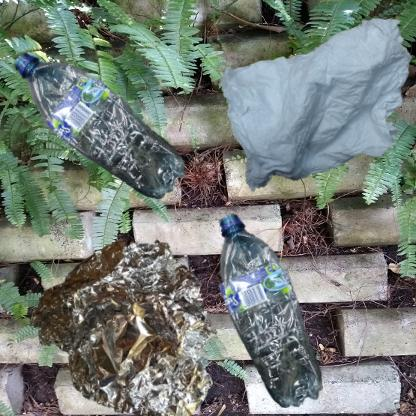aluminio: (10, 213, 252, 416)
botella: (10, 10, 237, 290), (213, 213, 330, 412)
papel: (213, 10, 416, 206)
